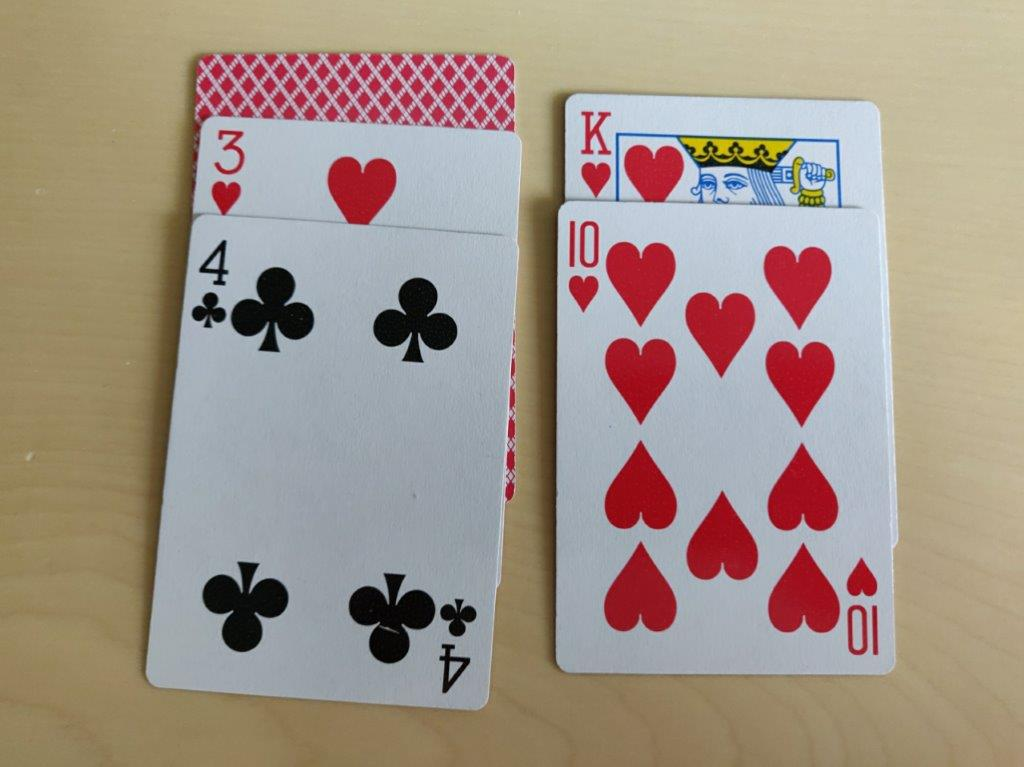10H: (561, 210, 605, 314)
3H: (203, 123, 248, 217)
4C: (190, 237, 232, 332)
BACK: (186, 50, 526, 129)
KH: (574, 106, 615, 197)
